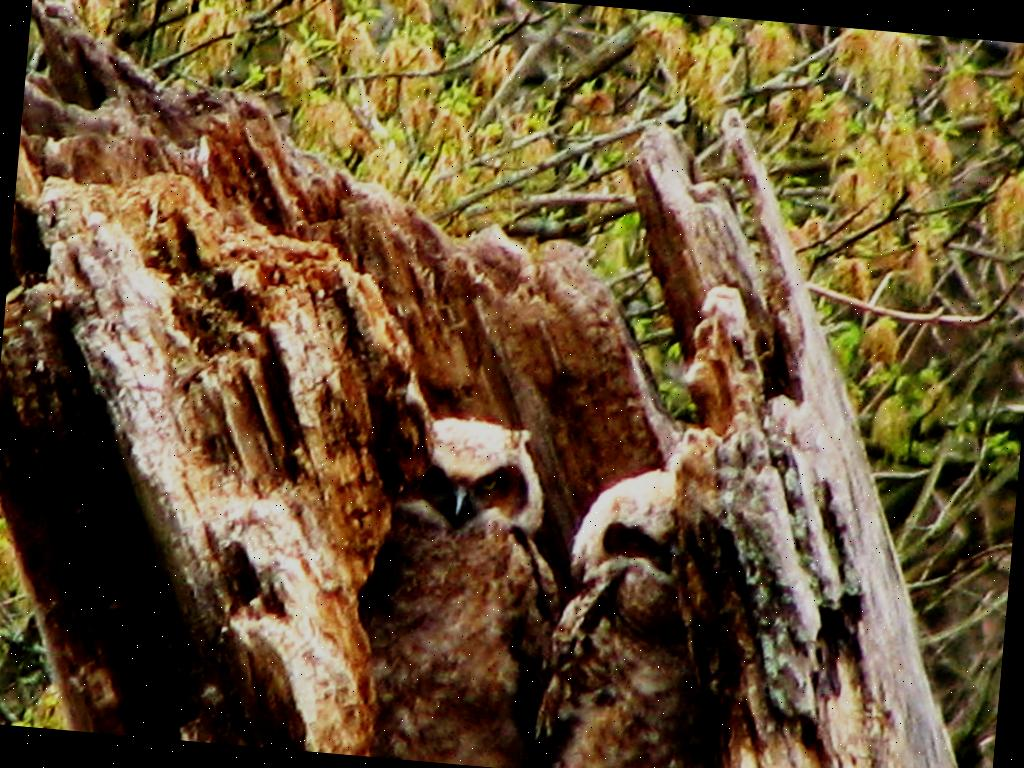Owl: (339, 413, 569, 768), (540, 460, 738, 768)
